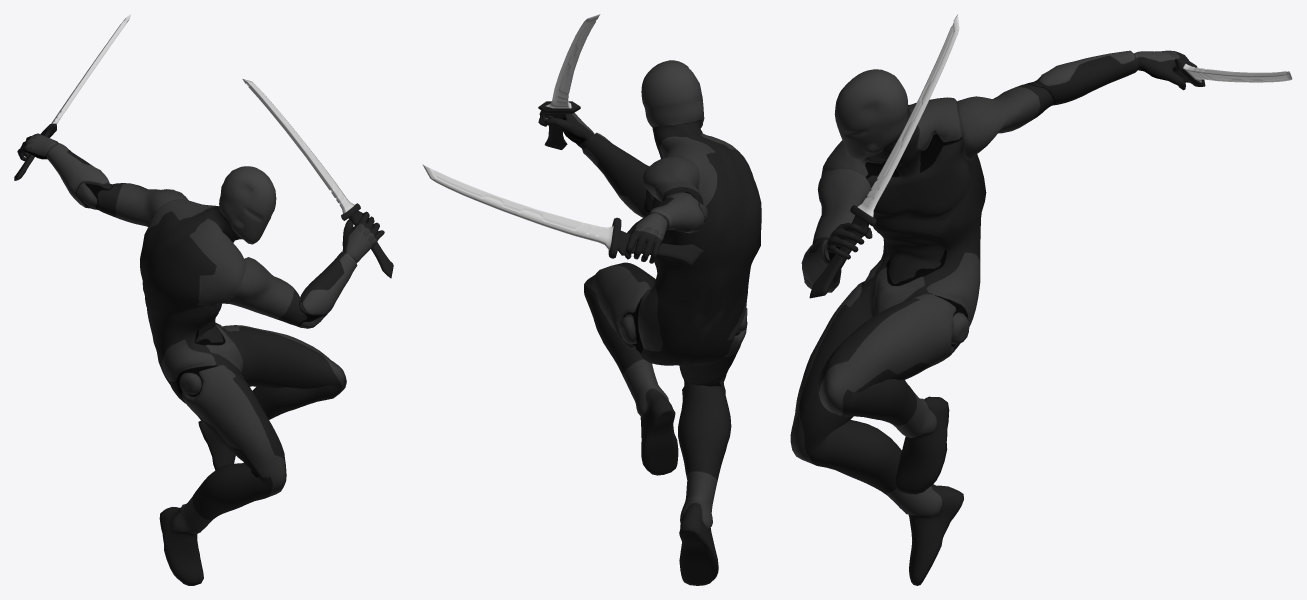
The picture shows the model from 3 angles, left to right: view 1: azimuth 30°, elevation 25°; view 2: azimuth 150°, elevation 25°; view 3: azimuth 270°, elevation 25°; orthographic projection. The views are drawn at different scales.
Parts seen in each view (by area): view 1: Cyborg_Ninja_Killer, Sword_l001, Sword_l; view 2: Cyborg_Ninja_Killer, Sword_l, Sword_l001; view 3: Cyborg_Ninja_Killer, Sword_l001, Sword_l.
Part boxes in pixels (<box>): Cyborg_Ninja_Killer: <box>17,133,384,585</box>; Sword_l001: <box>242,79,393,278</box>; Sword_l: <box>14,14,130,180</box>; Cyborg_Ninja_Killer: <box>538,60,761,585</box>; Sword_l: <box>422,164,704,265</box>; Sword_l001: <box>538,14,600,149</box>; Cyborg_Ninja_Killer: <box>790,50,1197,585</box>; Sword_l001: <box>809,14,959,298</box>; Sword_l: <box>1173,59,1292,86</box>.
Bounding box in the file's own units: 104 × 187 × 140.
2 materials, 2 textured.
